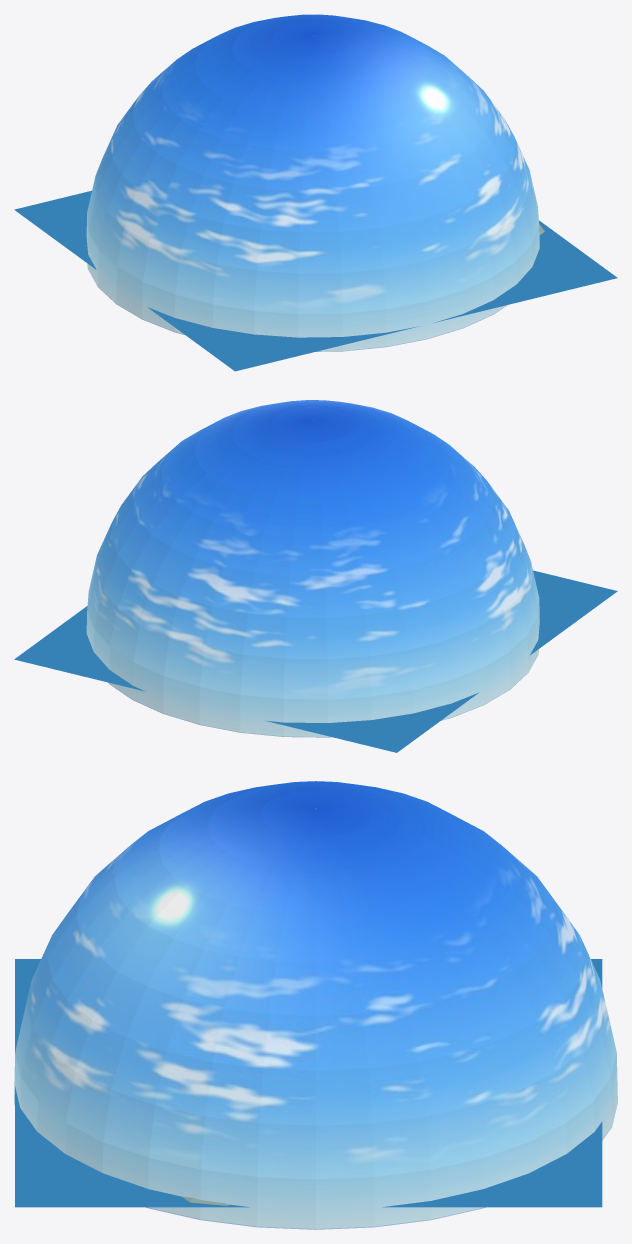
File: lugar-puntacana-ciudad.glb
3 views of the same model, one above another, from view 1: azimuth 30°, elevation 25°; view 2: azimuth 150°, elevation 25°; view 3: azimuth 270°, elevation 25° (orthographic). The views are drawn at different scales.
Visible parts, largest first — view 1: planoC; view 2: planoC; view 3: planoC.
Part boxes in pixels (x1,y1,x2,y2): planoC: [14, 14, 617, 371]; planoC: [14, 400, 617, 752]; planoC: [14, 781, 617, 1229].
Bounding box in the file's own units: 6584 × 3530 × 6584.
28 materials, 7 textured.
